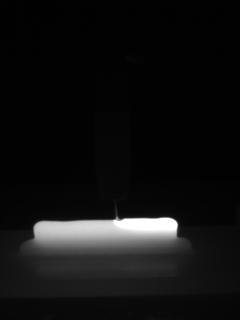tip_wire_left: (99, 196, 118, 220)
tip_wire_right: (116, 195, 130, 220)
